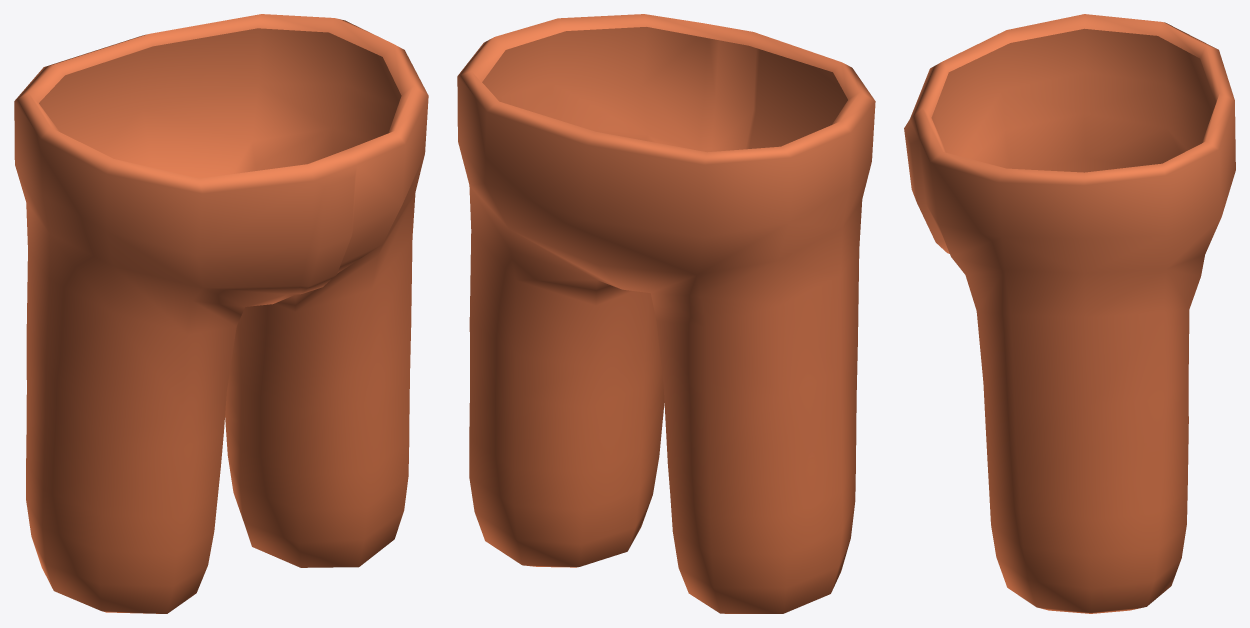
Rendered from Bottom_39.fbx.
3 renders of one model, left to right at view 1: azimuth 30°, elevation 25°; view 2: azimuth 150°, elevation 25°; view 3: azimuth 270°, elevation 25°, orthographic. The views are drawn at different scales.
Visible parts, largest first — view 1: Bottom_39; view 2: Bottom_39; view 3: Bottom_39.
Part boxes in pixels (x1=…): Bottom_39: x1=14, y1=14, x2=428, y2=613; Bottom_39: x1=457, y1=14, x2=875, y2=613; Bottom_39: x1=904, y1=14, x2=1235, y2=613.
Size of the model in its own units: 38.42 by 48.68 by 31.97.
